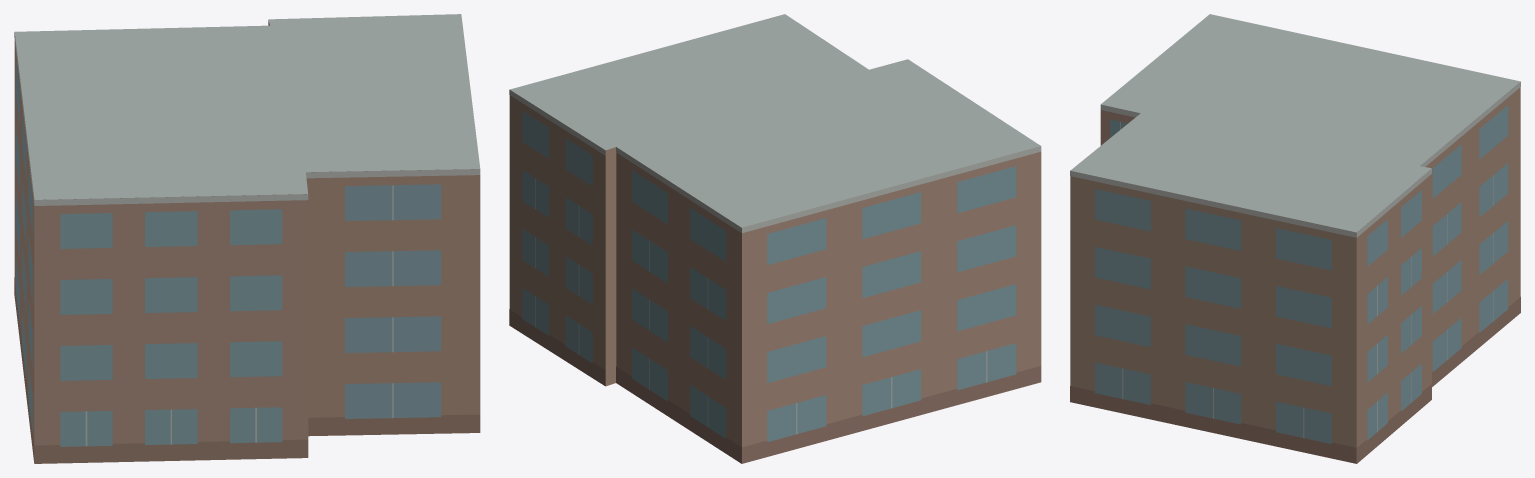
File: survey-upis-33010200.glb
3 views of the same model, side by side, from view 1: azimuth 30°, elevation 25°; view 2: azimuth 150°, elevation 25°; view 3: azimuth 270°, elevation 25° (orthographic). The views are drawn at different scales.
Visible parts, largest first — view 1: survey-upis-33010200.tmp; view 2: survey-upis-33010200.tmp; view 3: survey-upis-33010200.tmp.
Part boxes in pixels (box(x1,y1,x2,y2)): survey-upis-33010200.tmp: box(14, 14, 480, 463); survey-upis-33010200.tmp: box(509, 14, 1041, 463); survey-upis-33010200.tmp: box(1070, 14, 1520, 463).
Bounding box in the file's own units: 21.38 × 10.55 × 18.63.
